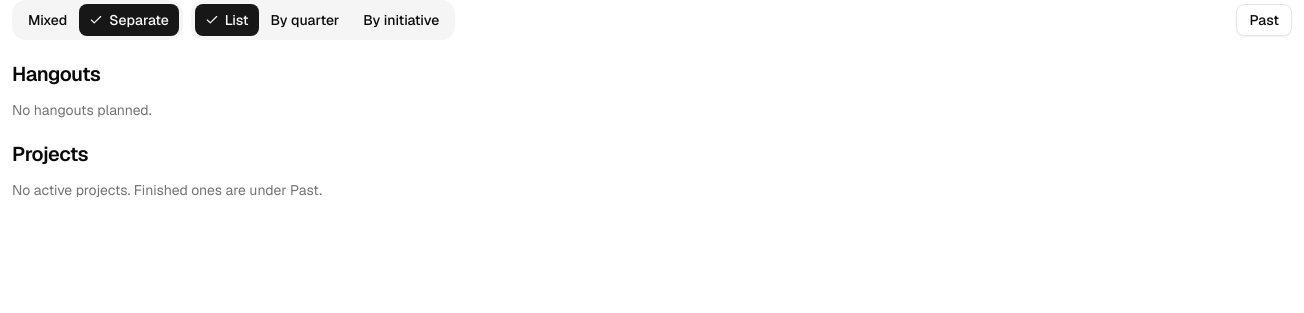
Scenario: ProjectOverview › explains empty sections in the separate layout
The width and height of the screenshot is (1304, 313).
Expected: the text "No hangouts planned." is shown, 12,101 -> 152,119
Expected: the text "No active projects. Finished ones are under Past." is shown, 12,181 -> 322,199
Click the button "Past": (1264, 20) 1236,4 -> 1292,36
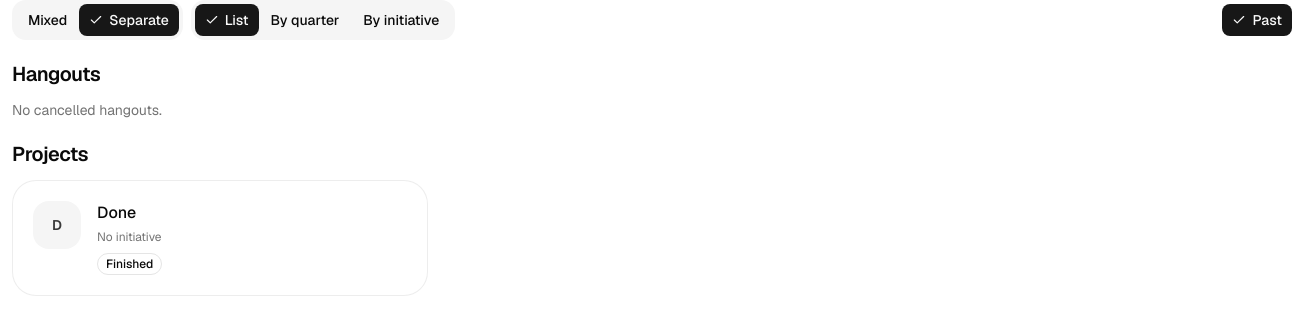
Now the text "No cancelled hangouts." is shown, box 12,101 -> 162,119
